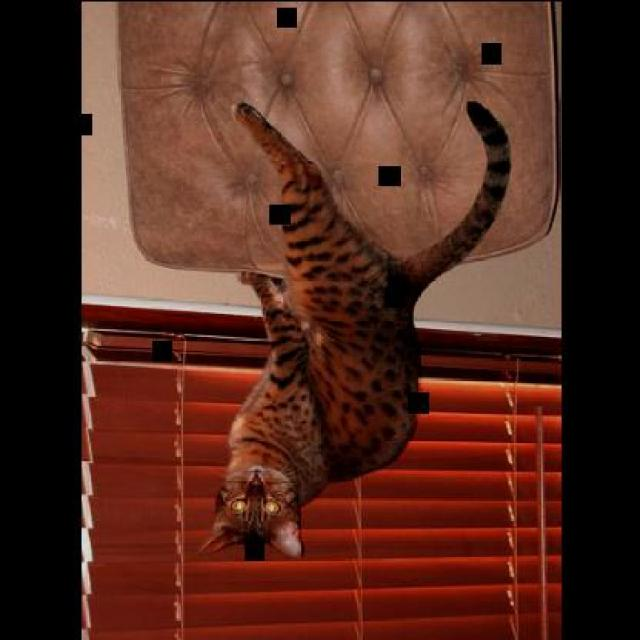unauthorized: (195, 96, 512, 558)
